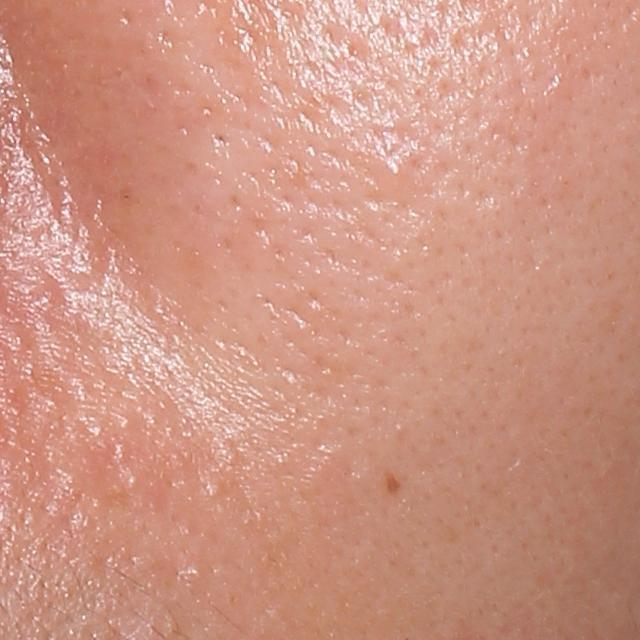comedo: (382, 158, 409, 187), (203, 479, 225, 501)
nevus: (376, 469, 401, 503)
